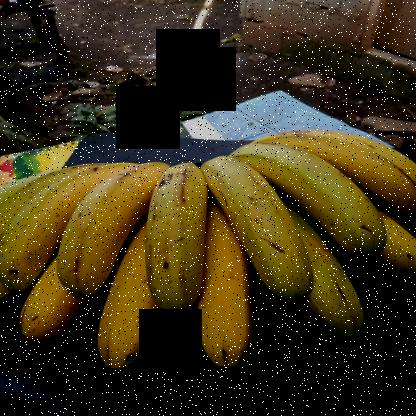freshripe: (202, 155, 316, 302), (58, 159, 162, 299), (263, 123, 415, 214), (143, 158, 214, 309)
